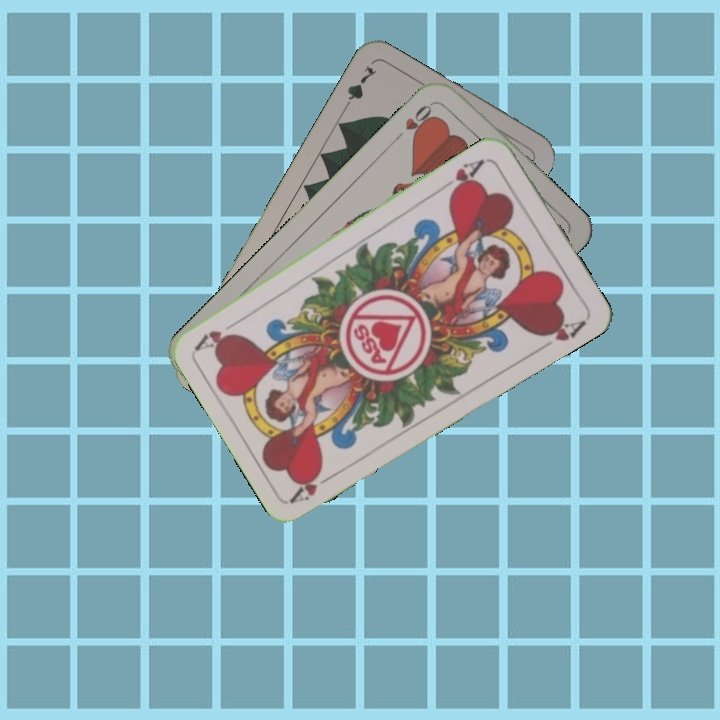G7: (338, 62, 380, 115)
HA: (437, 155, 491, 198), (288, 463, 341, 506)
HO: (390, 97, 439, 144)
